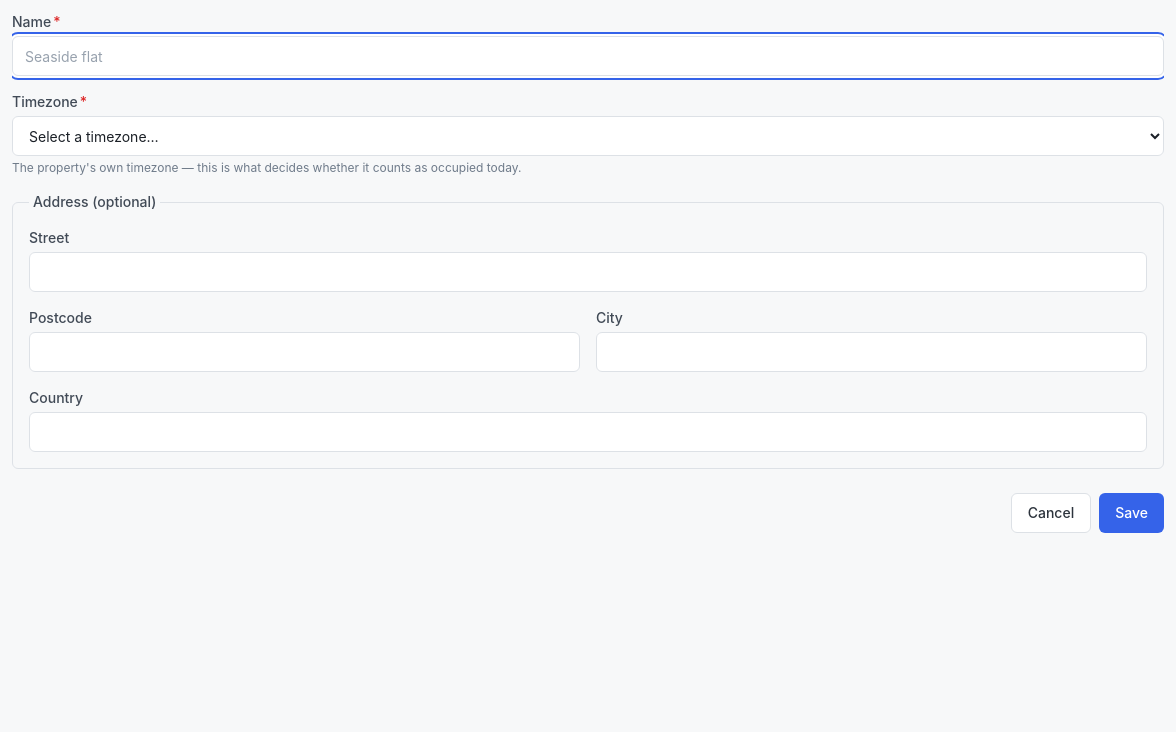
Test: RentalUnitForm › reports the required fields instead of submitting an incomplete unit
The image size is (1176, 732).
Click the button "Save" at x=1132, y=513, box x1=1099 y1=493 x2=1164 y2=533
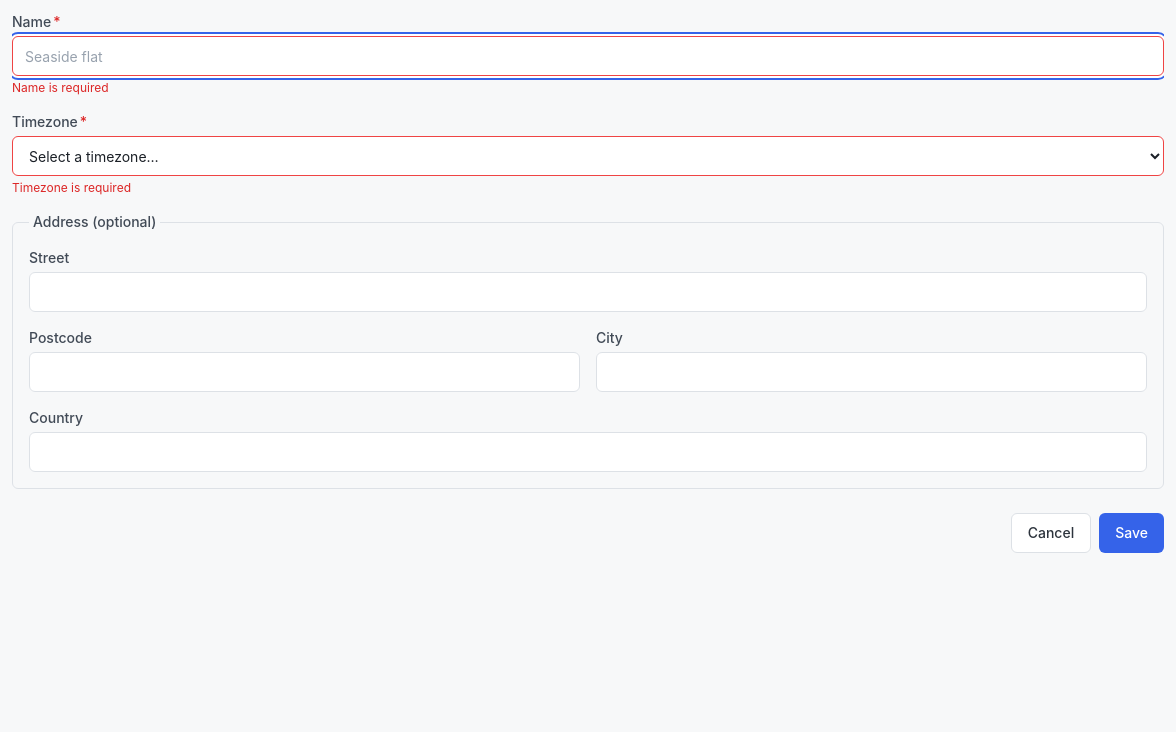
Now the text "Name is required" is shown, box x1=12 y1=80 x2=109 y2=95
Now the text "Timezone is required" is shown, box x1=12 y1=180 x2=131 y2=195
